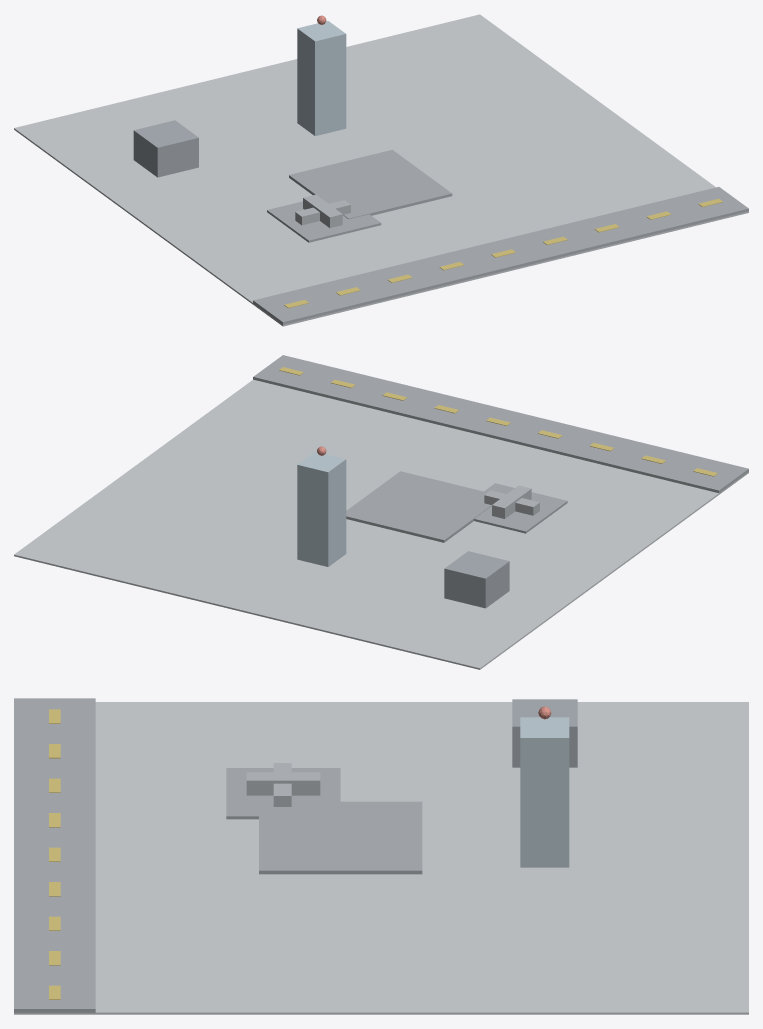
File: stage_04.glb
The picture shows the model from 3 angles, top to bottom: view 1: azimuth 30°, elevation 25°; view 2: azimuth 150°, elevation 25°; view 3: azimuth 270°, elevation 25°; orthographic projection. The views are drawn at different scales.
Visible parts, largest first — view 1: geometry_0; view 2: geometry_0; view 3: geometry_0.
Boxes of the visible parts, <box> form: geometry_0: <box>14,14,748,326</box>; geometry_0: <box>14,355,748,669</box>; geometry_0: <box>14,698,748,1014</box>.
Size of the model in its own units: 9 by 2.06 by 9.
